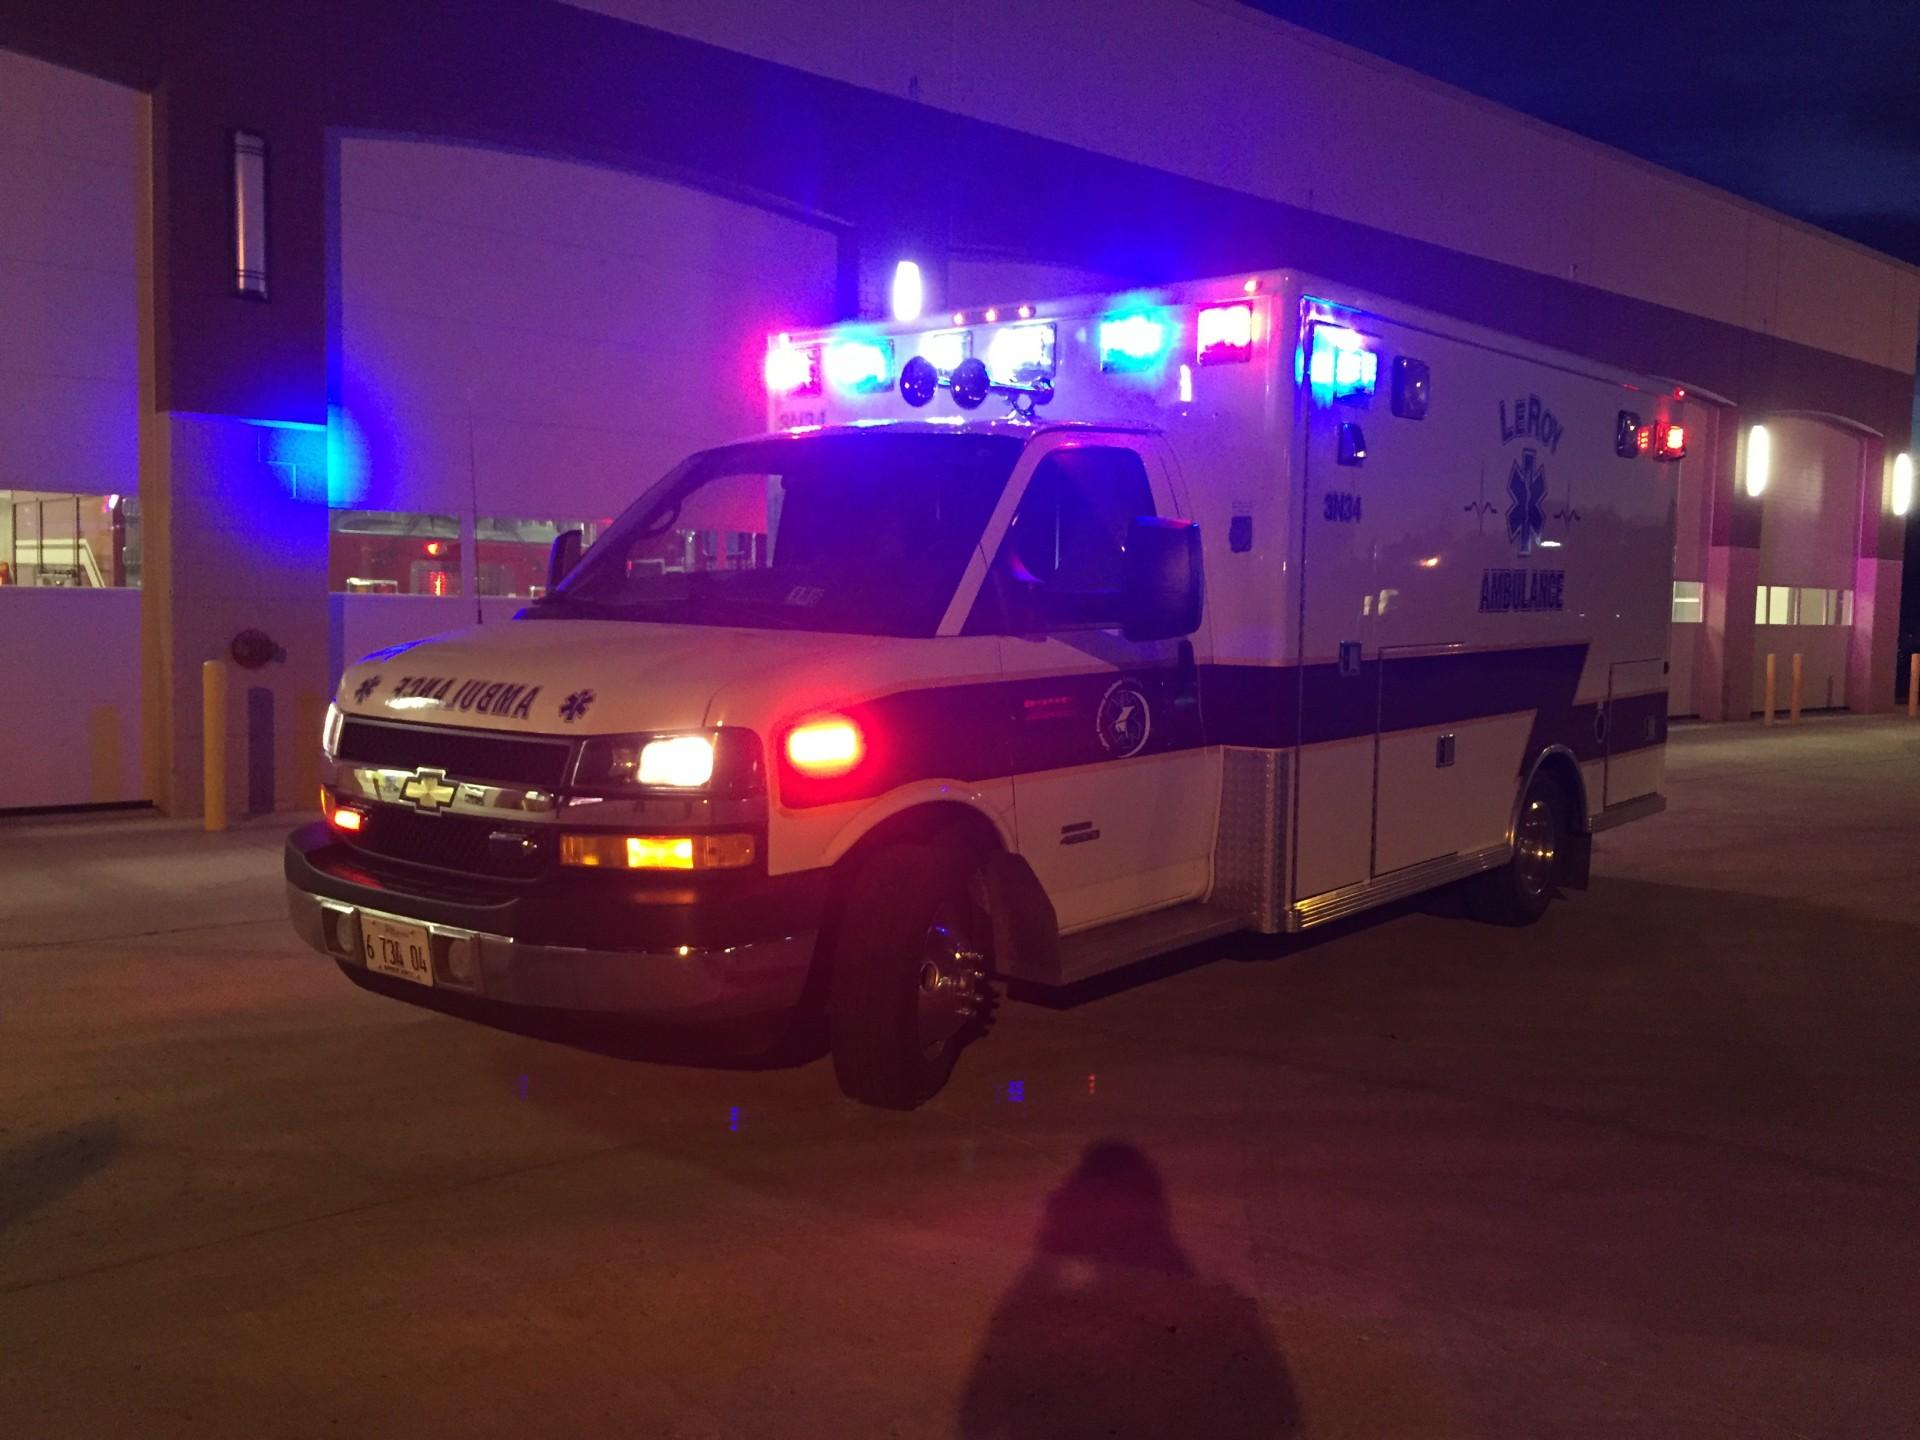ambulance_on: (278, 262, 1681, 1109)
